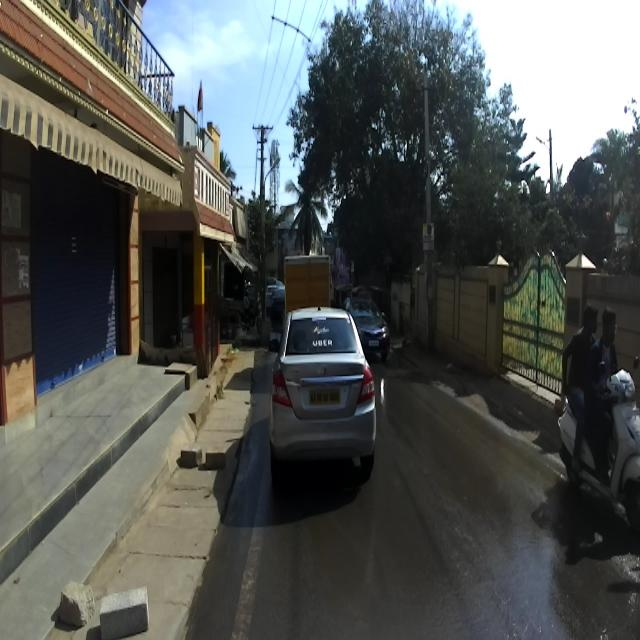car: (268, 306, 376, 480), (344, 290, 391, 366)
scooter: (556, 356, 640, 528)
